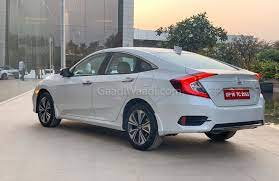Honda: (31, 41, 266, 151)
